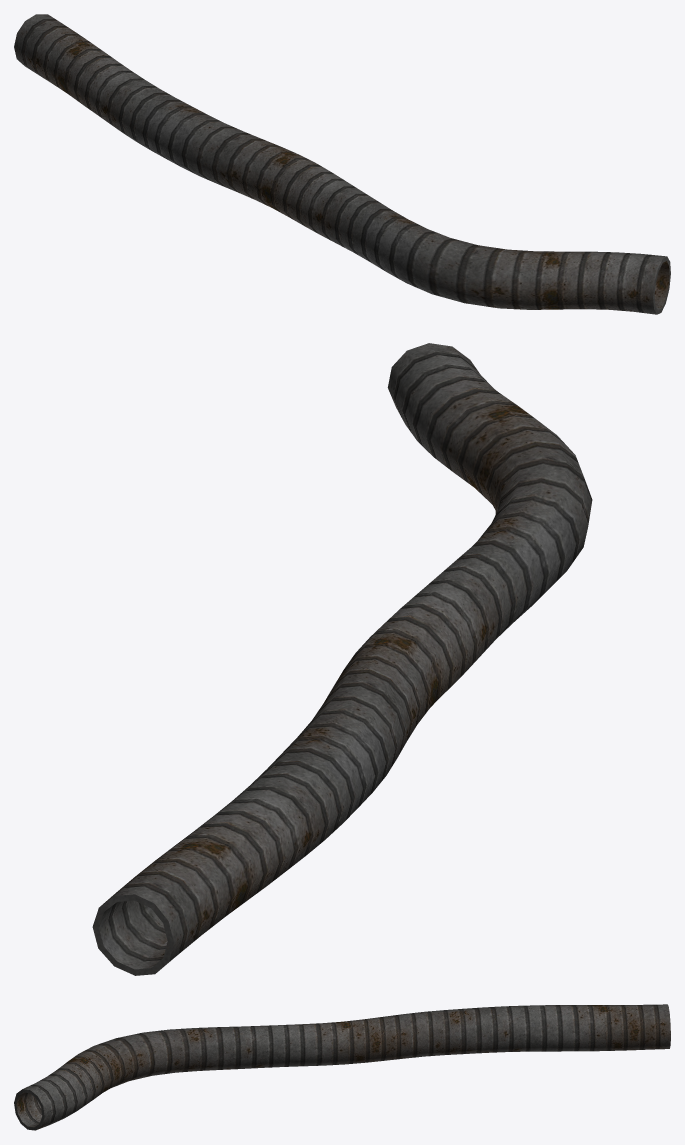
Rendered from pipe_e_3.obj.
3 renders of one model, top to bottom at view 1: azimuth 30°, elevation 25°; view 2: azimuth 150°, elevation 25°; view 3: azimuth 270°, elevation 25°, orthographic. The views are drawn at different scales.
Visible parts, largest first — view 1: pipe_e_3; view 2: pipe_e_3; view 3: pipe_e_3.
Part boxes in pixels (<box>): pipe_e_3: <box>14,14,670,314</box>; pipe_e_3: <box>92,343,592,975</box>; pipe_e_3: <box>14,1004,670,1130</box>.
Size of the model in its own units: 1.31 by 0.25 by 3.65.
